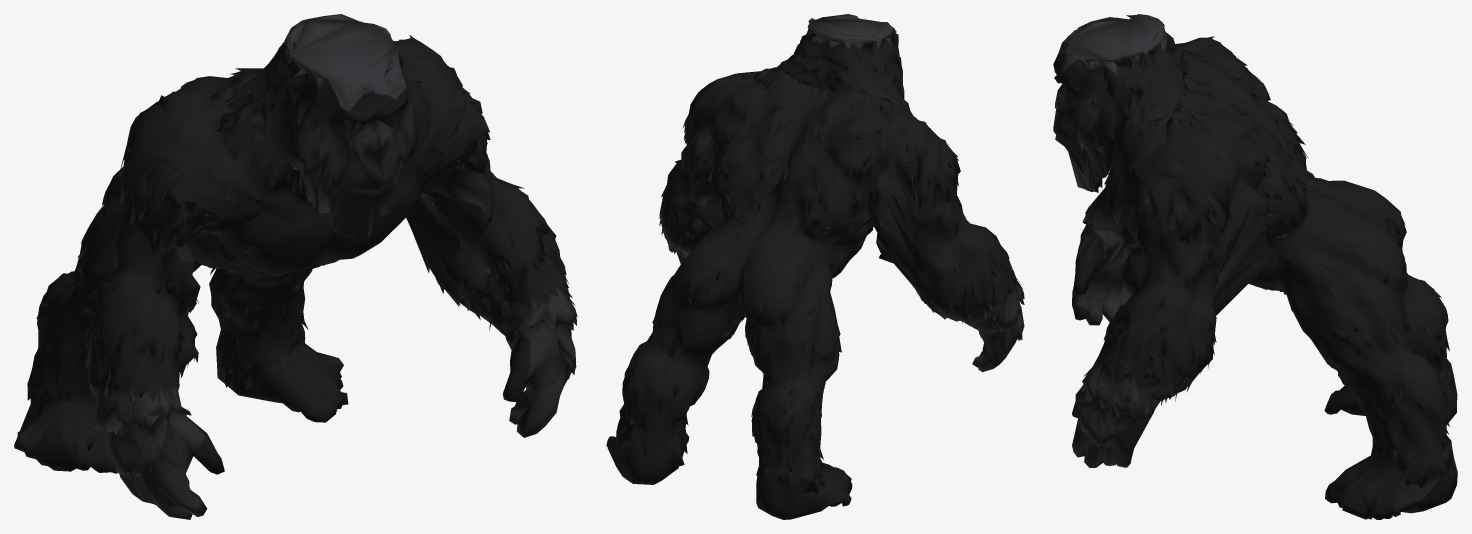
Rendered from pet_gorilla_kn.glb.
3 views of the same model, side by side, from view 1: azimuth 30°, elevation 25°; view 2: azimuth 150°, elevation 25°; view 3: azimuth 270°, elevation 25° (orthographic). The views are drawn at different scales.
Visible parts, largest first — view 1: char1; view 2: char1; view 3: char1.
Part boxes in pixels (x1,y1,x2,y2): char1: [14, 14, 577, 519]; char1: [606, 14, 1024, 519]; char1: [1053, 14, 1457, 519].
Bounding box in the file's own units: 1.09 × 1.13 × 0.9494.
2 materials, 1 textured.
